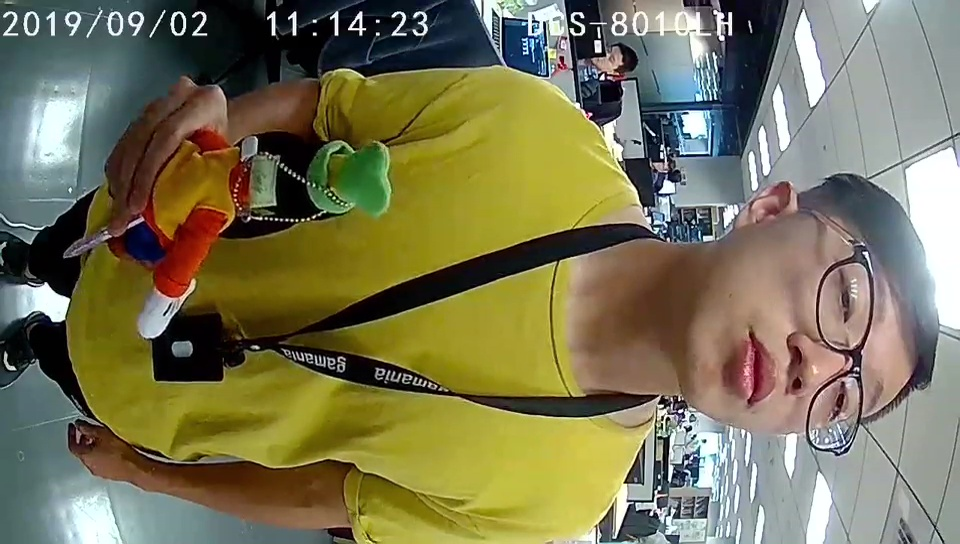goofy: (139, 135, 392, 339)
